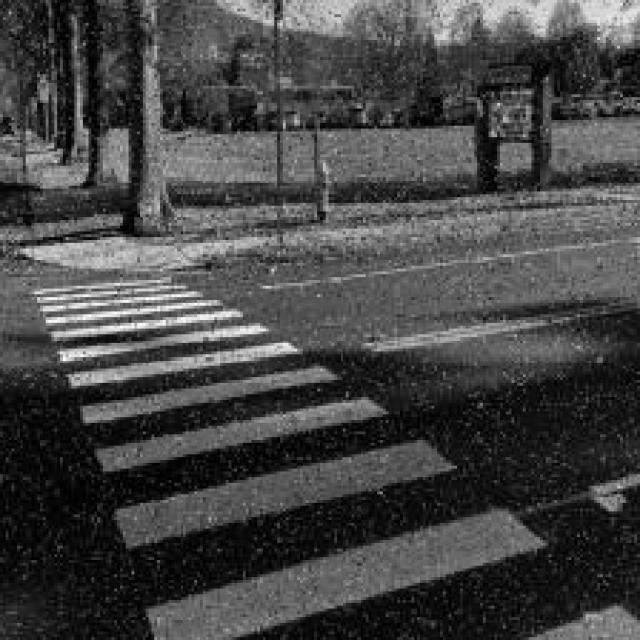crosswalk: (33, 275, 640, 640)
